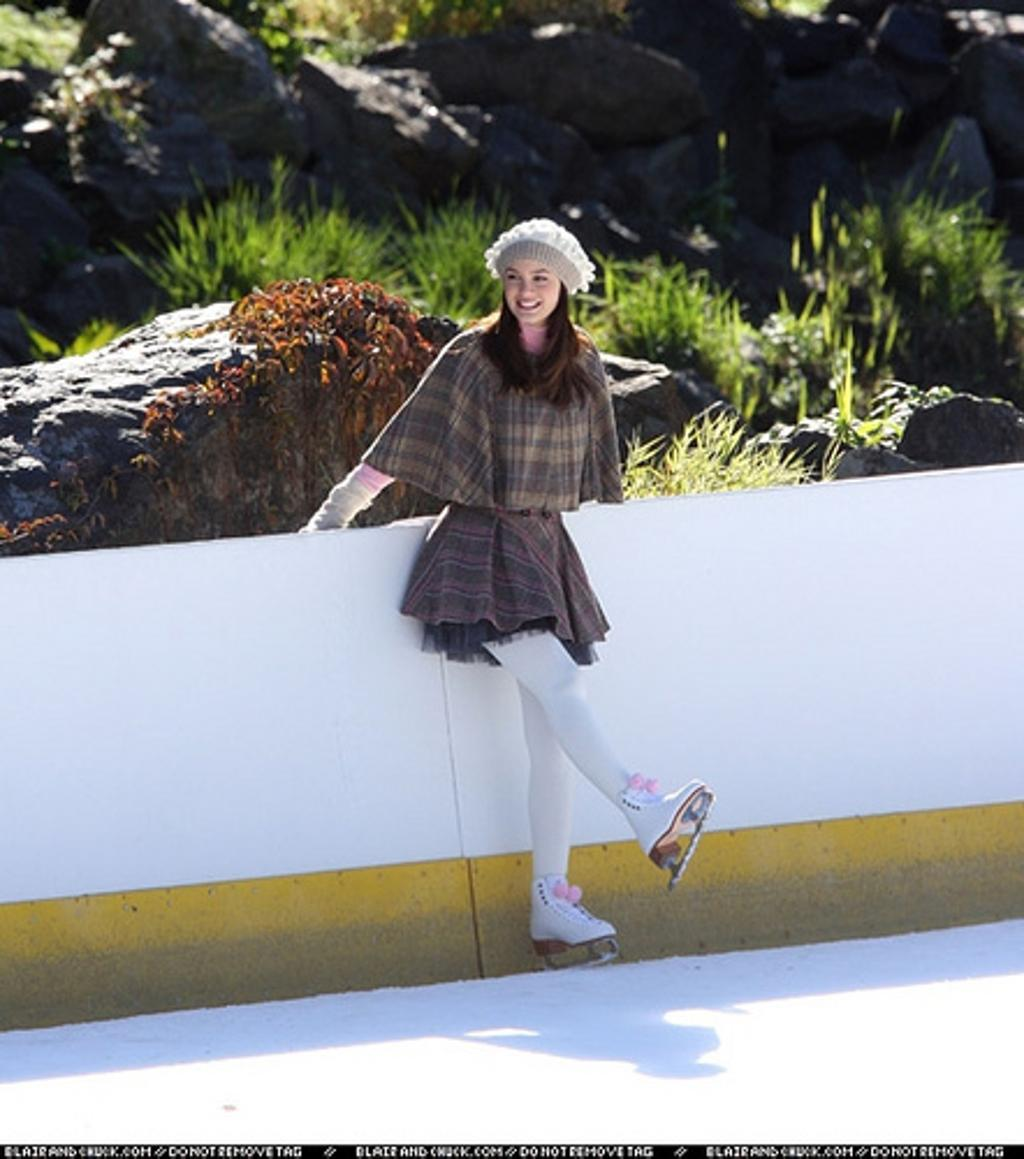face: (507, 254, 561, 320)
